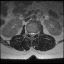CCS_normal: (31, 30, 33, 37)
LFS_normal: (35, 31, 37, 35)
LLS_normal: (33, 31, 35, 37)
RFS_normal: (27, 30, 29, 36)
RLS_normal: (29, 31, 31, 36)
